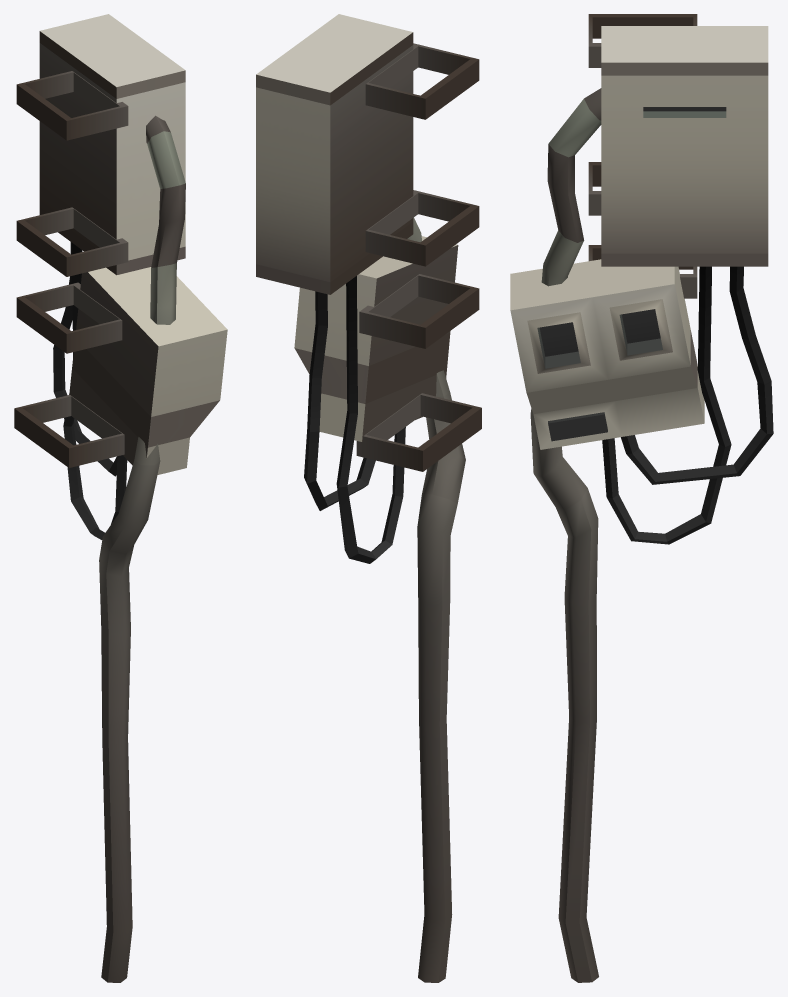
Rendered from SM_ElectricBox_01.fbx.
The picture shows the model from 3 angles, left to right: view 1: azimuth 30°, elevation 25°; view 2: azimuth 150°, elevation 25°; view 3: azimuth 270°, elevation 25°; orthographic projection. The views are drawn at different scales.
Visible parts, largest first — view 1: SM_ElectricBox_01; view 2: SM_ElectricBox_01; view 3: SM_ElectricBox_01.
Boxes of the visible parts, <box> form: SM_ElectricBox_01: <box>14,14,227,982</box>; SM_ElectricBox_01: <box>256,14,481,982</box>; SM_ElectricBox_01: <box>510,14,773,982</box>.
Bounding box in the file's own units: 0.4792 × 3.13 × 0.7788.
